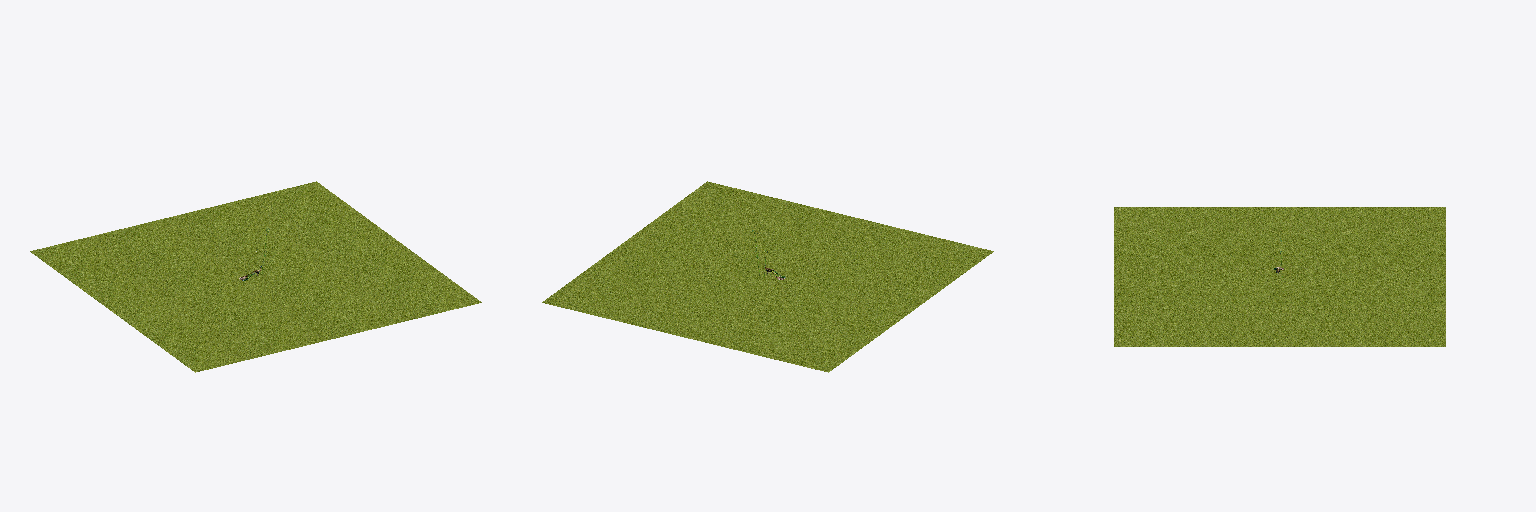
3 renders of one model, left to right at view 1: azimuth 30°, elevation 25°; view 2: azimuth 150°, elevation 25°; view 3: azimuth 270°, elevation 25°, orthographic.
Parts seen in each view (by area): view 1: Mesh85 Model; view 2: Mesh85 Model; view 3: Mesh85 Model.
Boxes of the visible parts, <box> form: Mesh85 Model: <box>30,181,481,372</box>; Mesh85 Model: <box>542,181,993,372</box>; Mesh85 Model: <box>1114,207,1445,346</box>.
Size of the model in its own units: 1386 by 225 by 1386.
7 materials, 5 textured.